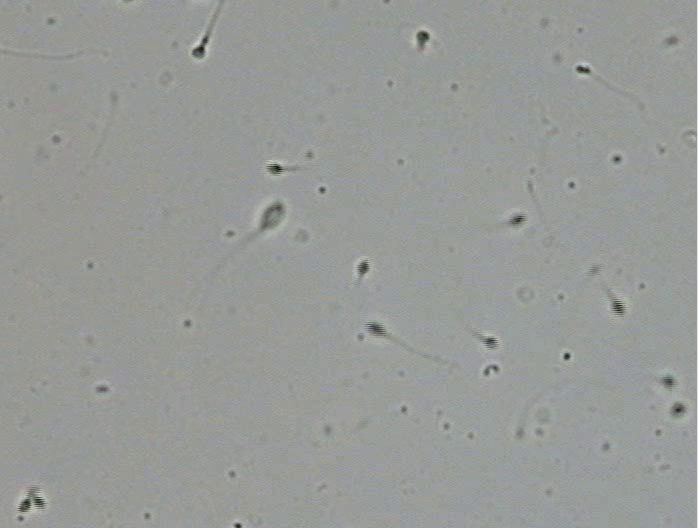S: (259, 202, 285, 230), (365, 320, 387, 337), (610, 296, 626, 317), (356, 259, 371, 276), (415, 30, 430, 47), (265, 163, 284, 176), (483, 336, 500, 349), (17, 498, 31, 513), (32, 496, 46, 511), (509, 214, 526, 226), (192, 45, 206, 59), (661, 375, 675, 388), (671, 403, 685, 416), (576, 64, 591, 74)
